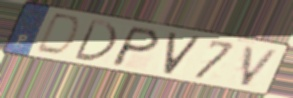7: (192, 39, 238, 81)
D: (32, 11, 83, 58), (71, 17, 119, 64)
P: (108, 25, 163, 69)
V: (238, 43, 282, 88), (161, 31, 204, 77)
